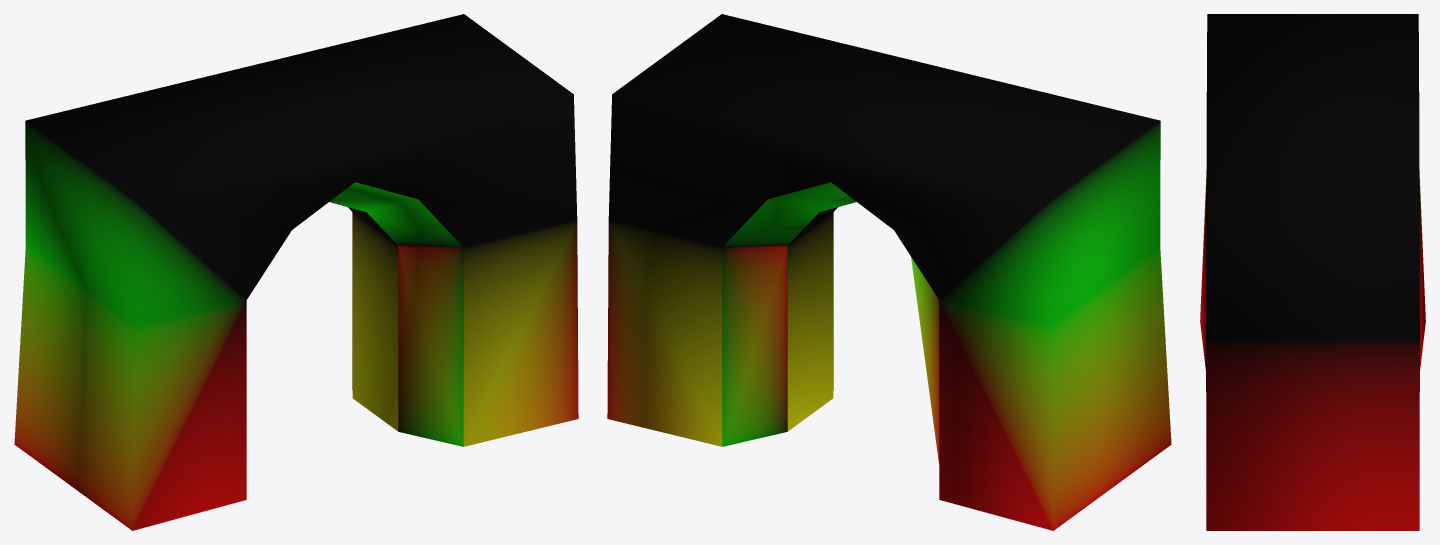
Rendered from A_WallDoor_A_Collider.FBX.
The picture shows the model from 3 angles, left to right: view 1: azimuth 30°, elevation 25°; view 2: azimuth 150°, elevation 25°; view 3: azimuth 270°, elevation 25°; orthographic projection. The views are drawn at different scales.
Visible parts, largest first — view 1: A_WallDoor_A_Collider; view 2: A_WallDoor_A_Collider; view 3: A_WallDoor_A_Collider.
Part boxes in pixels (bbox=[...]): A_WallDoor_A_Collider: bbox=[14, 14, 578, 530]; A_WallDoor_A_Collider: bbox=[607, 14, 1171, 530]; A_WallDoor_A_Collider: bbox=[1200, 14, 1425, 530].
Bounding box in the file's own units: 571 × 396 × 260.
